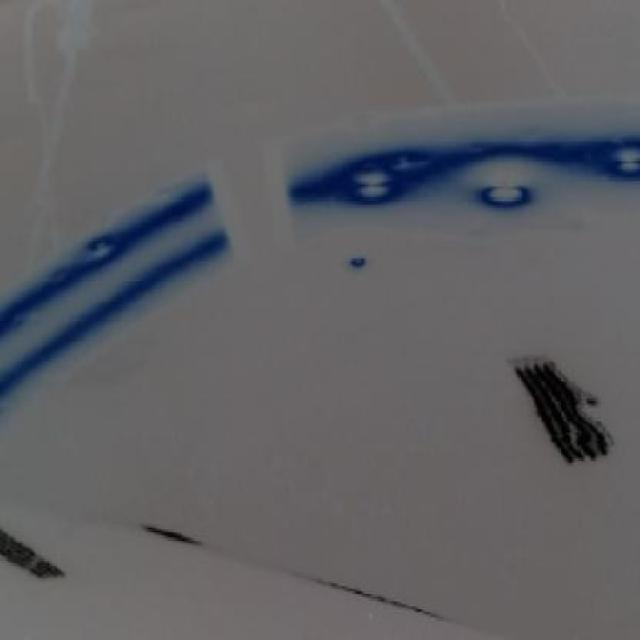dent: (476, 180, 534, 211), (351, 166, 391, 200), (609, 143, 640, 174), (393, 151, 431, 174), (88, 234, 114, 257), (346, 251, 371, 274)
